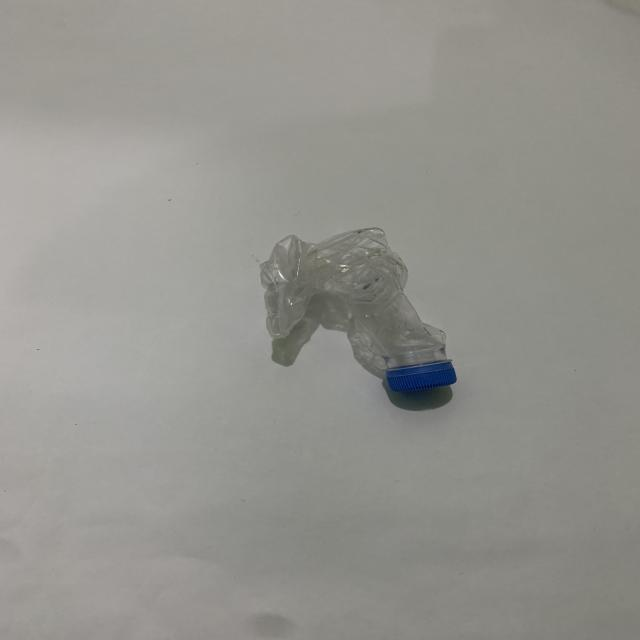bottle: (239, 211, 492, 411)
